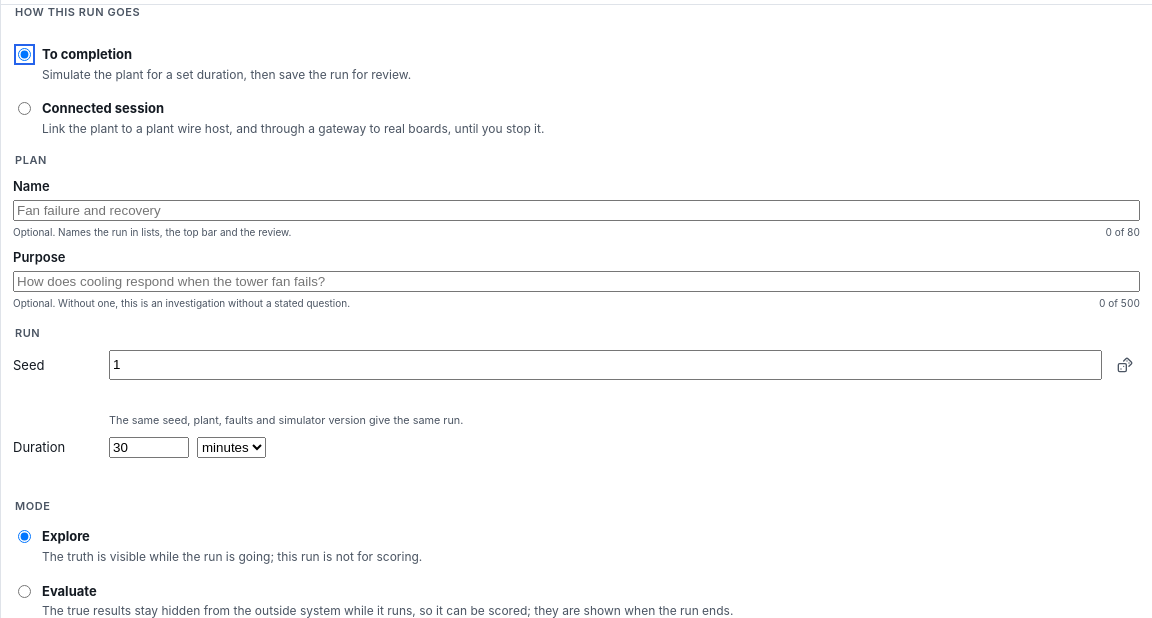
before you start › reviews the plan and says plainly that nothing is scoring the run
Type "Cooling loss" into the field labelled "Name".
click(576, 211); type("Cooling loss")  # box [13,200,1140,221]
(page scrolled)
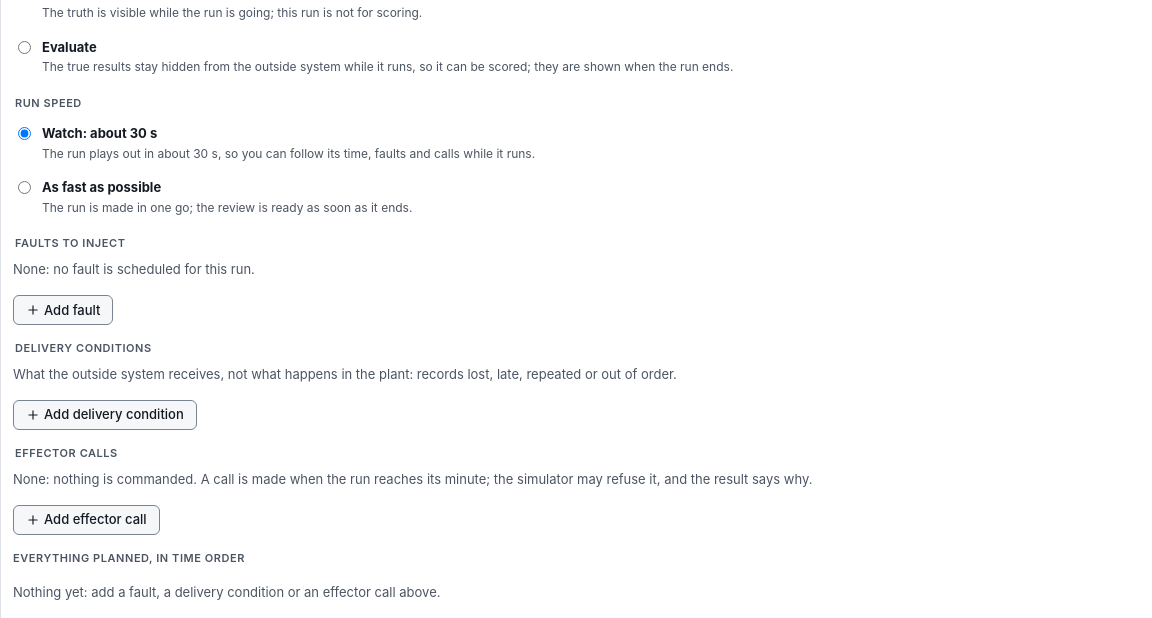
Click the button "Add fault".
click(63, 310)  # box [13,295,114,325]
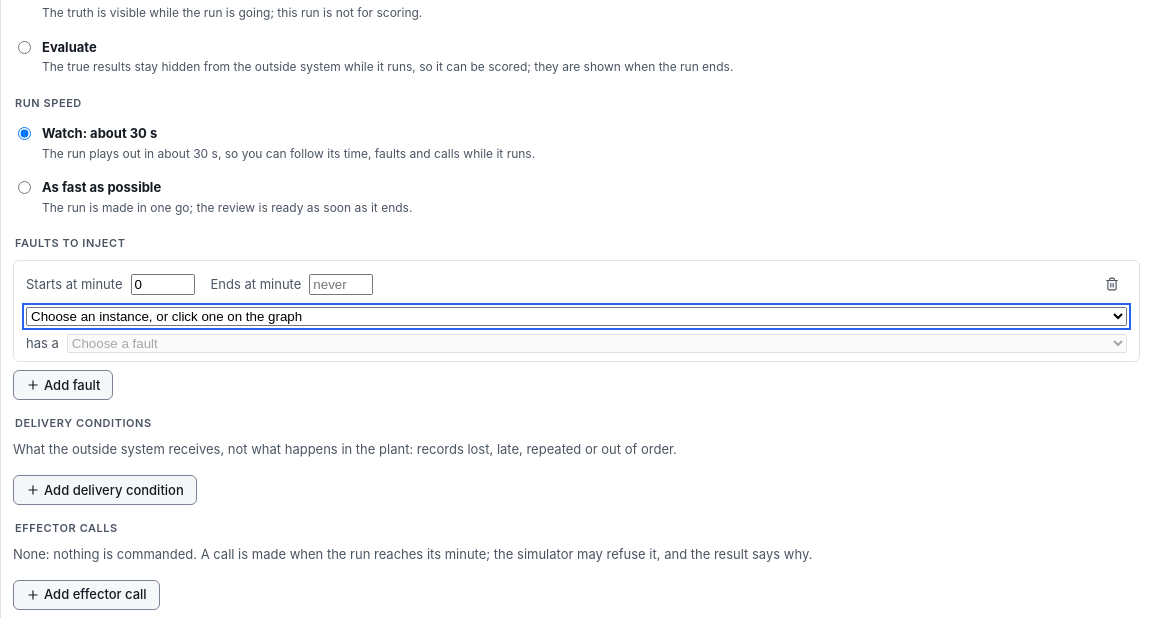
Click the radio button labelled "Evaluate".
click(24, 47)  # box [18,41,31,54]
(page scrolled)
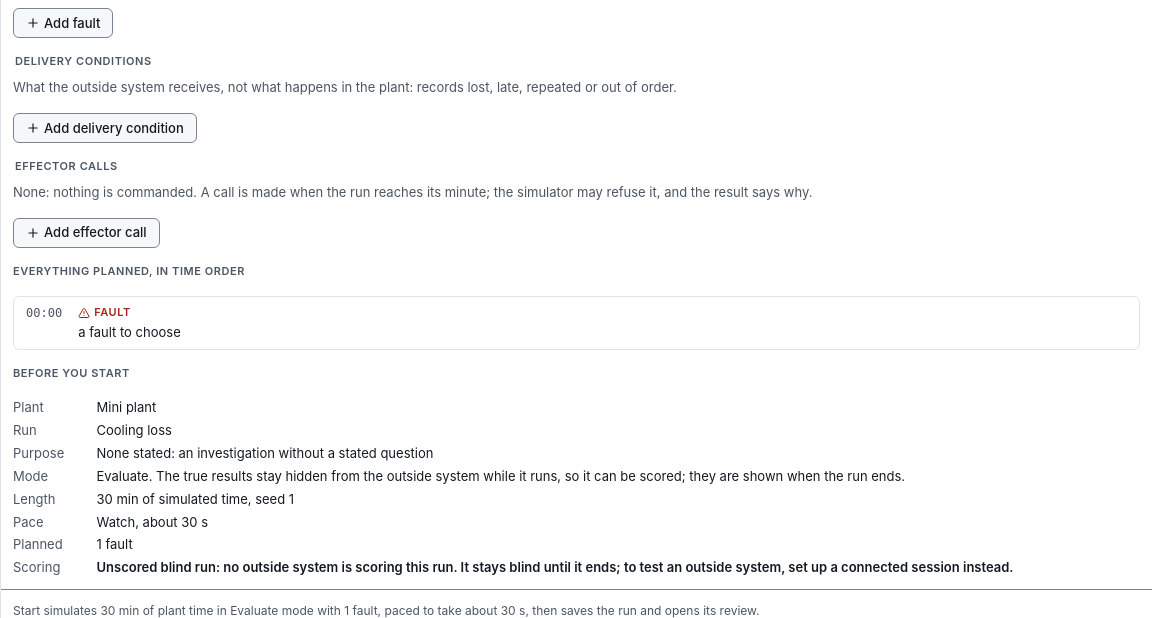
Check: the text "set up a connected session instead" is shown, box [96,559,1014,575]
